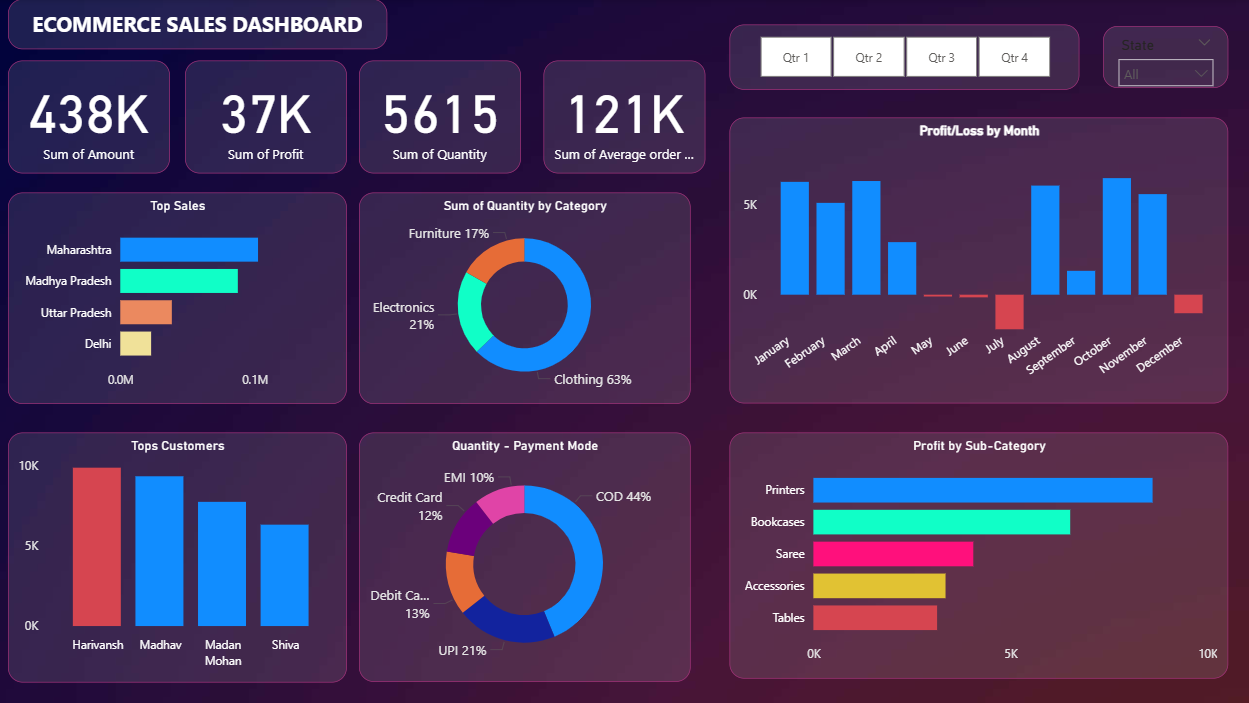

The page's visual inventory and layout, read from the dashboard file:
{"tool":"powerbi","page":{"name":"Page 1","canvas":[1280,720],"ordinal":0},"visuals":[{"type":"textbox","box":[9.4,0,387.4,51],"z":0},{"type":"columnChart","title":"Profit/Loss by Month","fields":{"Y":["Sum(Details.Profit)"],"Category":["Orders.Order Date.Variation.Date Hierarchy.Month"]},"box":[745.7,120.9,509.5,292],"z":1000},{"type":"barChart","title":"Profit by Sub-Category","fields":{"Category":["Details.Sub-Category"],"Y":["Sum(Details.Profit)"]},"box":[745.7,442.6,509.5,251],"z":2000},{"type":"donutChart","fields":{"Category":["Details.Category"],"Y":["Sum(Details.Quantity)"]},"box":[368.2,197.1,338.4,215.7],"z":3000},{"type":"donutChart","title":"Quantity - Payment Mode","fields":{"Y":["Sum(Details.Quantity)"],"Category":["Details.PaymentMode"]},"box":[368.2,442.6,338.4,254.8],"z":4000},{"type":"card","fields":{"Values":["Sum(Details.Amount)"]},"box":[9.3,63.2,165.5,115.3],"z":5000},{"type":"card","fields":{"Values":["Sum(Details.Quantity)"]},"box":[368.2,63.2,165.5,115.3],"z":6000},{"type":"card","fields":{"Values":["Sum(Details.Average order value)"]},"box":[556,63.2,165.5,115.3],"z":7000},{"type":"card","fields":{"Values":["Sum(Details.Profit)"]},"box":[189.7,63.2,165.5,115.3],"z":8000},{"type":"barChart","title":"Top Sales","fields":{"Category":["Orders.State"],"Y":["Sum(Details.Amount)"]},"box":[9.3,197.1,345.9,215.7],"z":9000},{"type":"slicer","fields":{"Values":["Orders.Order Date.Variation.Date Hierarchy.Quarter"]},"box":[745.7,26,357,66.9],"z":10000},{"type":"slicer","fields":{"Values":["Orders.State"]},"box":[1126.9,27.9,128.3,63.2],"z":11000},{"type":"columnChart","title":"Tops Customers","fields":{"Category":["Orders.CustomerName"],"Y":["Sum(Details.Amount)"]},"box":[9,443,346,255],"z":12000}]}

Visuals, with their boxes in screenshot pixels (x1, y1, x2, y2), scaled from the page's 1280x720 canvas onto the 1249x703 screenshot:
textbox: 9:0:387:50
"Profit/Loss by Month" columnChart: 728:118:1225:403
"Profit by Sub-Category" barChart: 728:432:1225:677
donutChart - Details.Category x Sum(Details.Quantity): 359:192:689:403
"Quantity - Payment Mode" donutChart: 359:432:689:681
card - Sum(Details.Amount): 9:62:171:174
card - Sum(Details.Quantity): 359:62:521:174
card - Sum(Details.Average order value): 543:62:704:174
card - Sum(Details.Profit): 185:62:347:174
"Top Sales" barChart: 9:192:347:403
slicer - Orders.Order Date.Variation.Date Hierarchy.Quarter: 728:25:1076:91
slicer - Orders.State: 1100:27:1225:89
"Tops Customers" columnChart: 9:433:346:682
